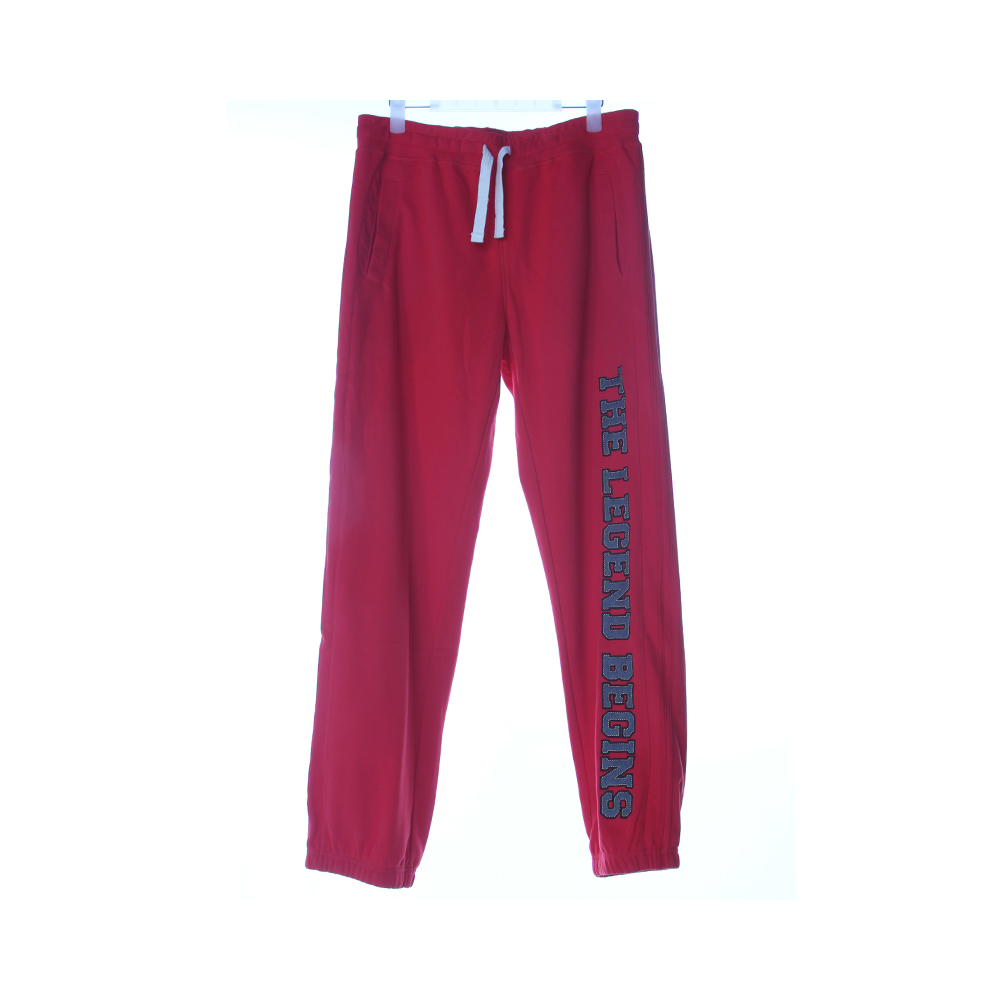flexible: (298, 98, 687, 888)
